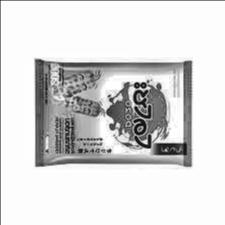snackbag: (24, 43, 204, 176)
